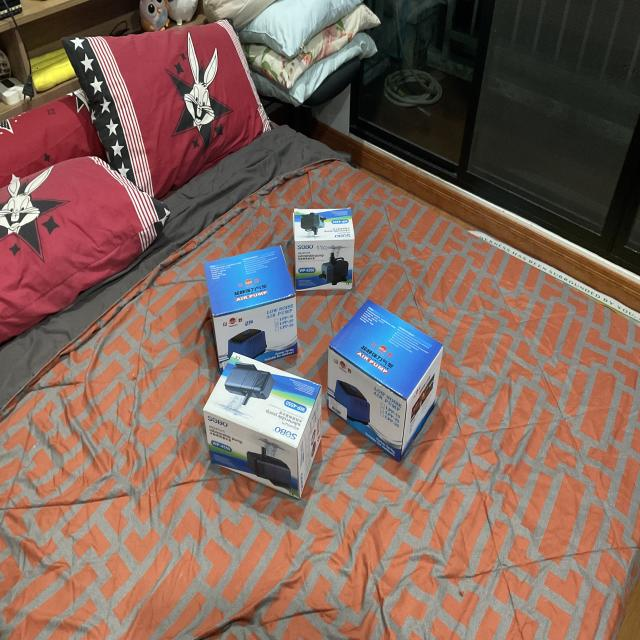SOBO_WP_4200: (195, 341, 334, 499), (286, 196, 364, 298)
YAMANO_LPP_20: (323, 290, 456, 474), (202, 245, 312, 372)
